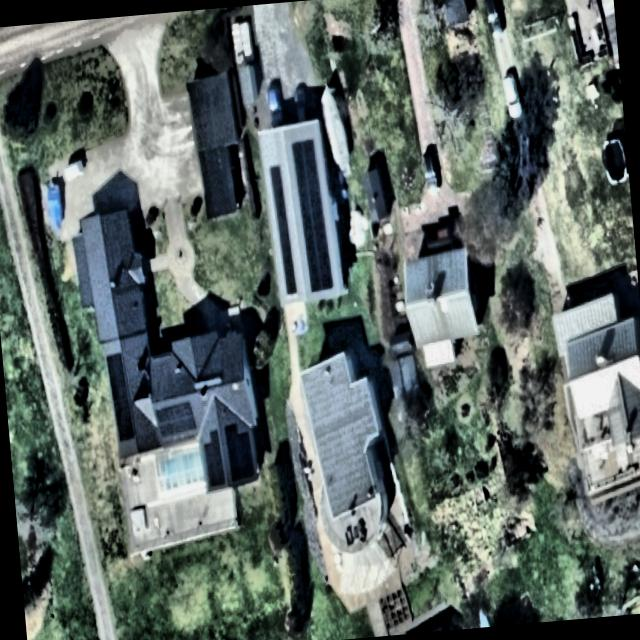roof_pv: (290, 139, 334, 294), (265, 158, 298, 297), (106, 354, 136, 446), (224, 420, 257, 484), (200, 429, 228, 497), (153, 401, 198, 436)
